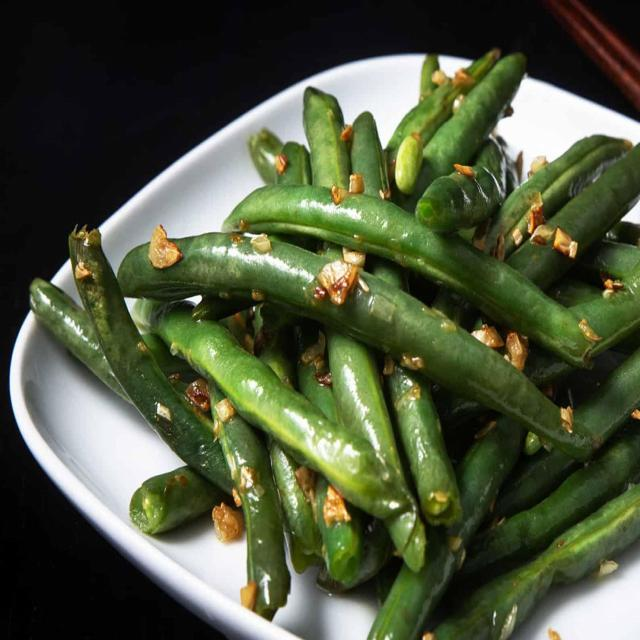Beans: (19, 57, 639, 639)
